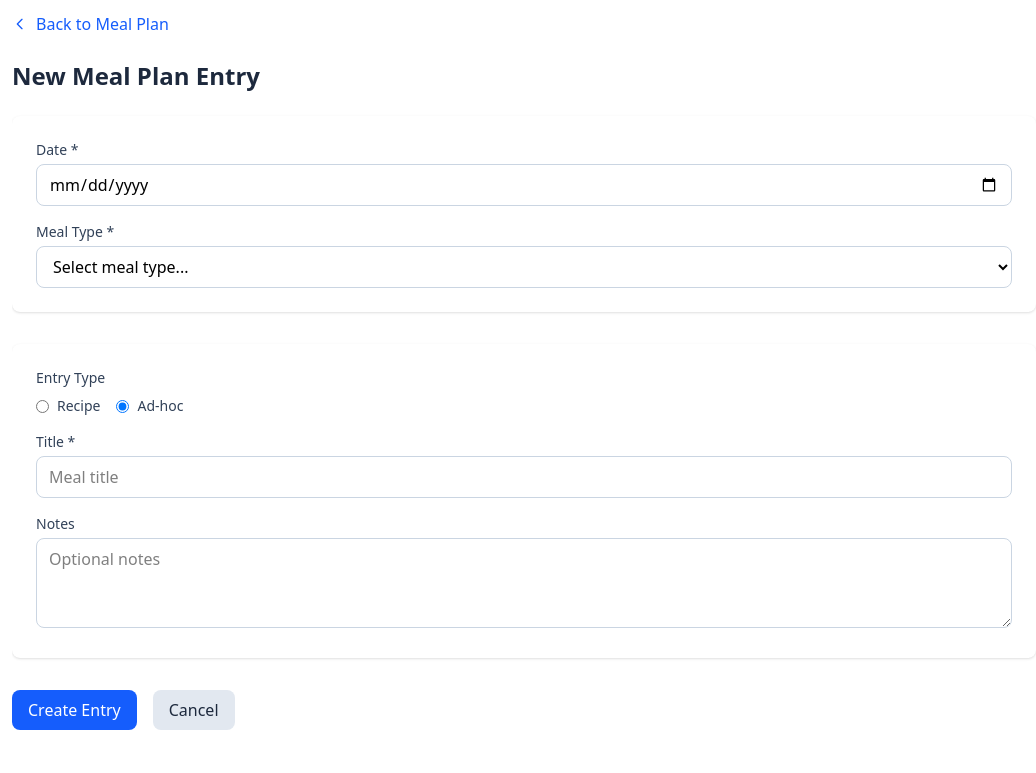
Test case: MealPlanEntryForm › Create mode › shows recipe dropdown when recipe radio selected
The image size is (1036, 773).
Click the radio button labelled "Recipe" at (42, 406), box [36, 400, 49, 412]
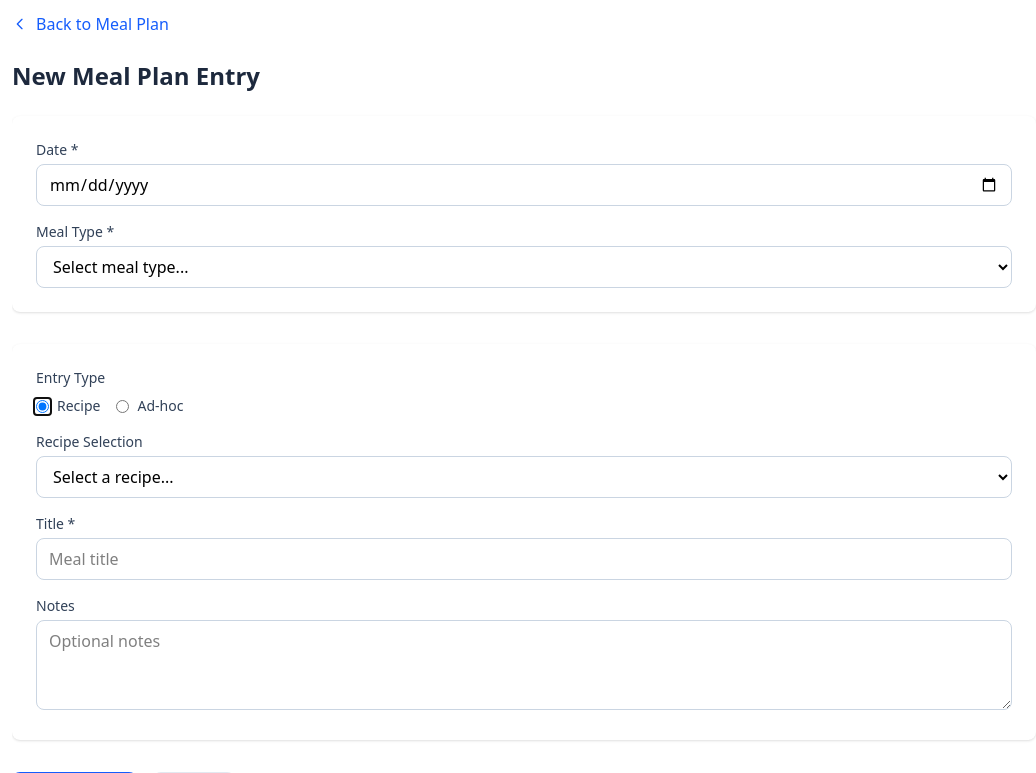
Check: the dropdown labelled "Recipe Selection" is shown, box [36, 456, 1012, 498]
